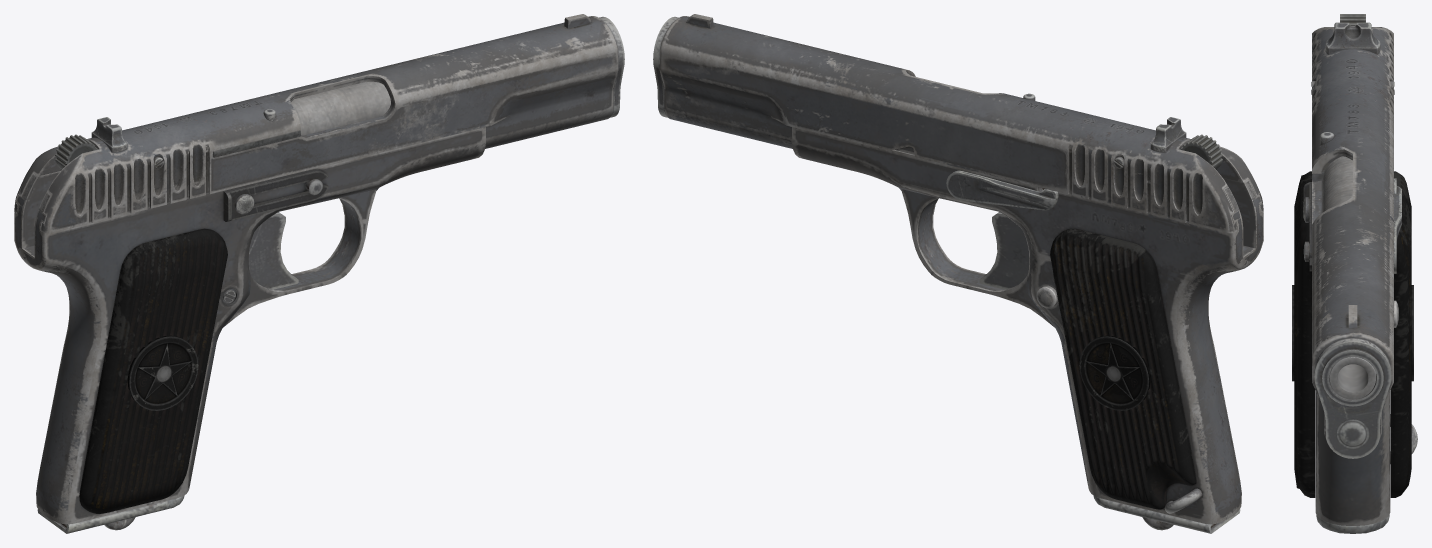
The model's file is tt33_quads.DAE.
3 renders of one model, left to right at view 1: azimuth 30°, elevation 25°; view 2: azimuth 150°, elevation 25°; view 3: azimuth 270°, elevation 25°, orthographic. The views are drawn at different scales.
Visible parts, largest first — view 1: tt33_quads; view 2: tt33_quads; view 3: tt33_quads.
Part boxes in pixels (left/top/right/bottom): tt33_quads: left=14, top=14, right=624, bottom=533; tt33_quads: left=653, top=14, right=1263, bottom=533; tt33_quads: left=1292, top=14, right=1417, bottom=533.
Size of the model in its own units: 19.32 by 12.92 by 2.98.
Materials: 1 (1 with a texture image).
